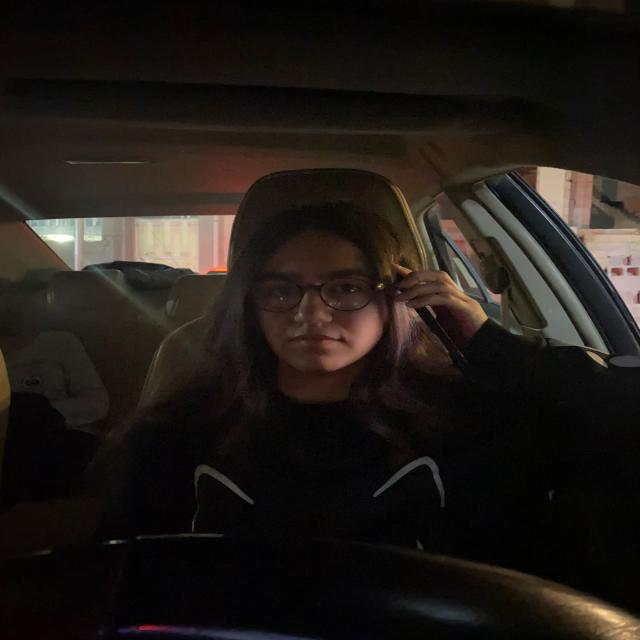mobile: (416, 301, 484, 384)
person: (231, 200, 421, 380)
